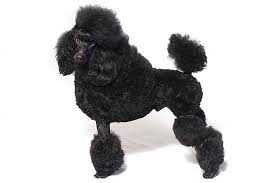Poodle: (46, 2, 241, 183)
